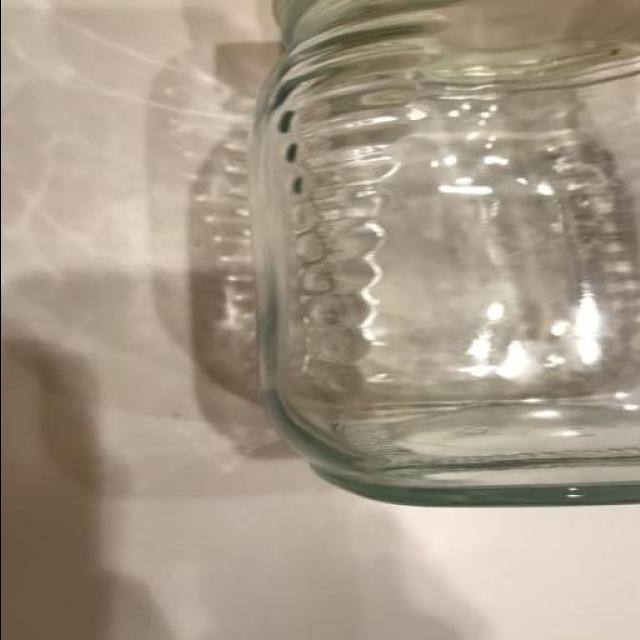litter: (252, 1, 638, 496)
